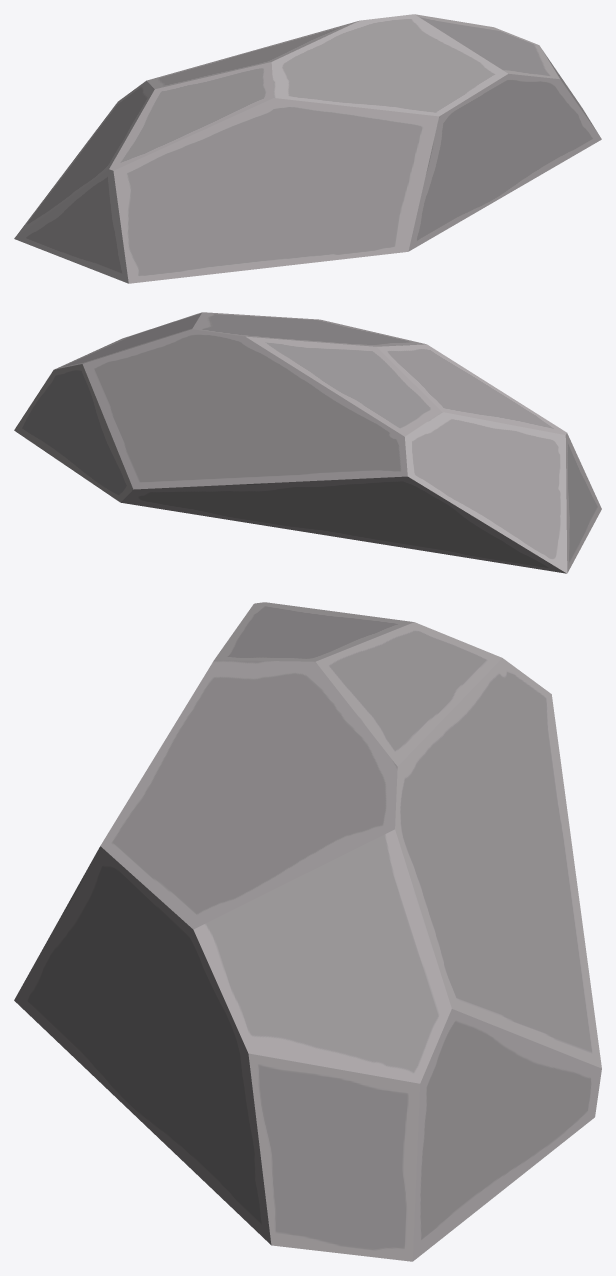
3 renders of one model, top to bottom at view 1: azimuth 30°, elevation 25°; view 2: azimuth 150°, elevation 25°; view 3: azimuth 270°, elevation 25°, orthographic. The views are drawn at different scales.
Parts seen in each view (by area): view 1: Rock03; view 2: Rock03; view 3: Rock03.
Part boxes in pixels (box(x1,y1,x2,y2)): Rock03: box(14, 14, 601, 283); Rock03: box(14, 312, 601, 573); Rock03: box(14, 602, 601, 1261).
Bounding box in the file's own units: 378 × 94.73 × 178.
